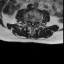CCS_normal: (32, 19, 33, 27)
LFS_severe_stenosis: (35, 19, 37, 23)
LLS_severe_stenosis: (33, 20, 35, 24)
RFS_severe_stenosis: (28, 18, 30, 23)
RLS_severe_stenosis: (30, 20, 32, 24)
